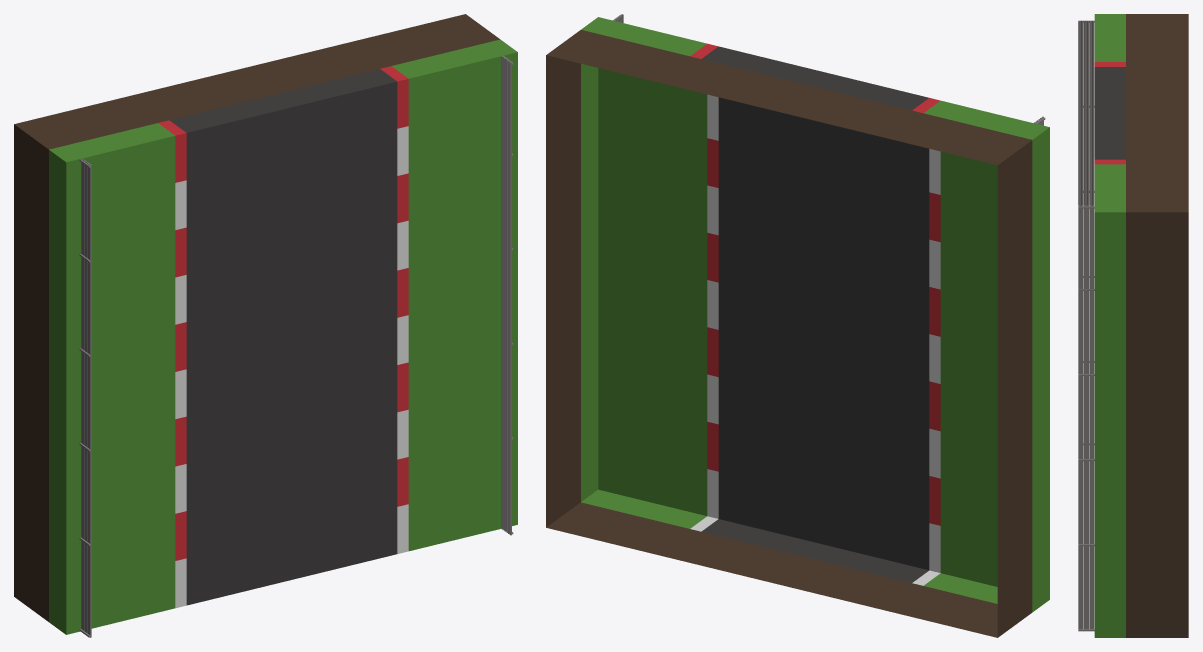
Rendered from race_grass_straight_fence.glb.
The picture shows the model from 3 angles, left to right: view 1: azimuth 30°, elevation 25°; view 2: azimuth 150°, elevation 25°; view 3: azimuth 270°, elevation 25°; orthographic projection. The views are drawn at different scales.
Parts seen in each view (by area): view 1: tile-race-track-straight-curbs; view 2: tile-race-track-straight-curbs; view 3: tile-race-track-straight-curbs.
Boxes of the visible parts, <box> form: tile-race-track-straight-curbs: <box>14,14,517,637</box>; tile-race-track-straight-curbs: <box>546,14,1049,637</box>; tile-race-track-straight-curbs: <box>1078,14,1188,637</box>.
Bounding box in the file's own units: 30 × 30 × 7.05.
1 material, 1 textured.
